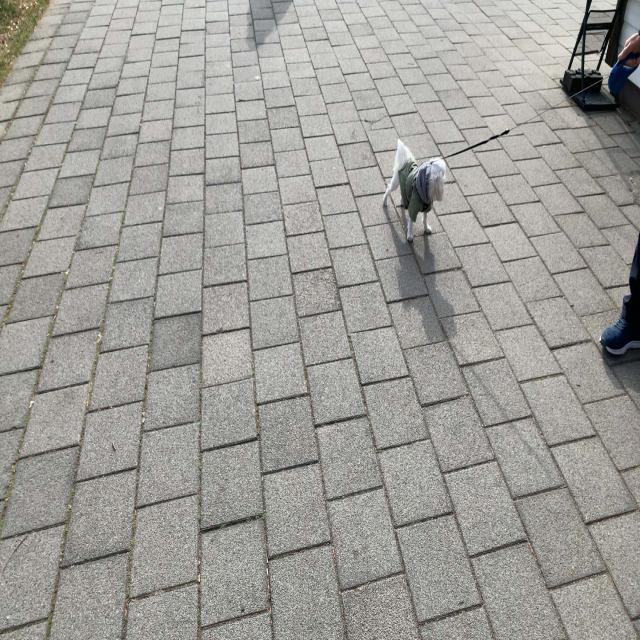Dog: (381, 139, 448, 245)
